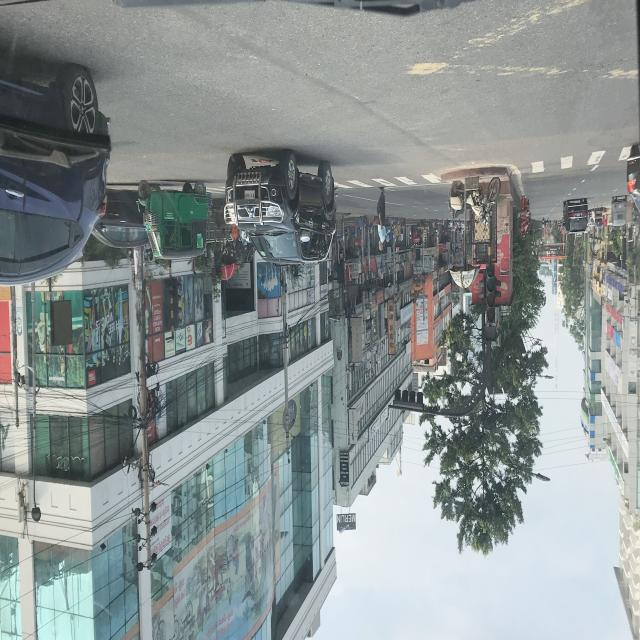black: (224, 158, 338, 264), (92, 193, 150, 250)
blue: (0, 61, 113, 289)
